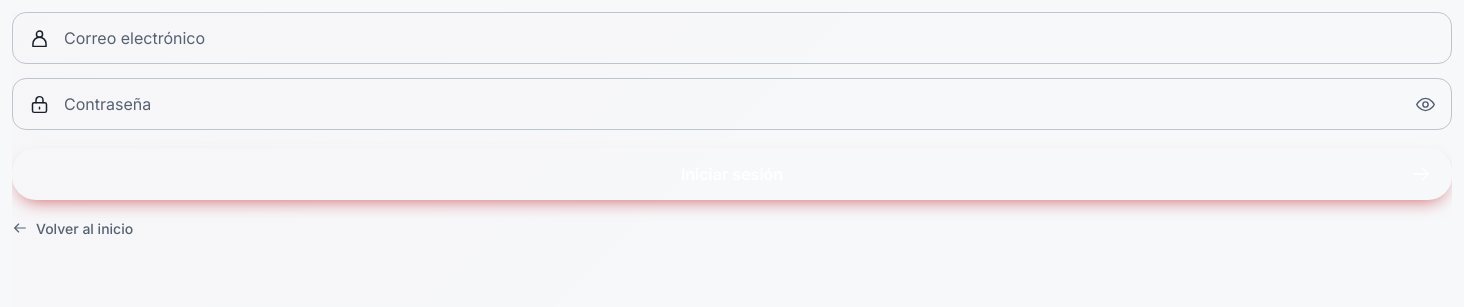
Test: anuncia las credenciales incorrectas con role=alert y enfoca el correo sin borrarlo
Type "ana@example.com" into the field labelled "Correo electrónico" at (750, 38), box [50, 13, 1451, 63]
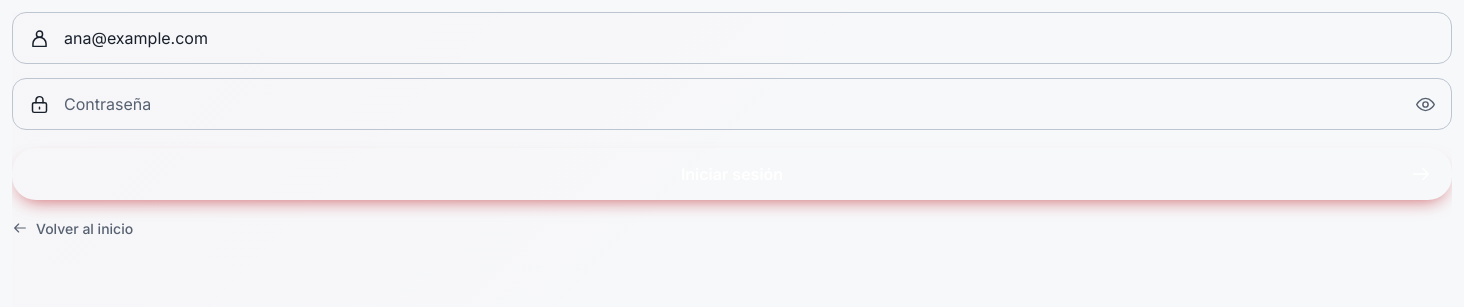
Type "mala" into the password field labelled "Contraseña" at (726, 104), box [50, 79, 1403, 129]
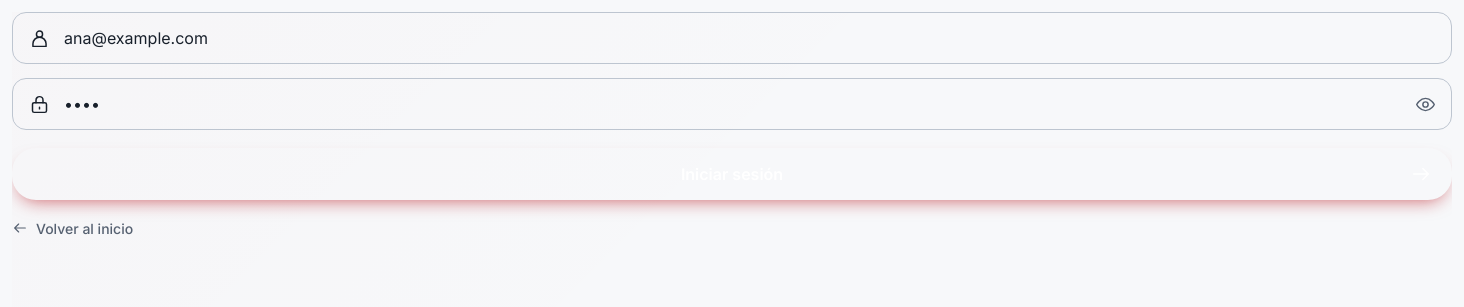
Click the button "Iniciar sesión" at (732, 174), box [12, 148, 1452, 200]
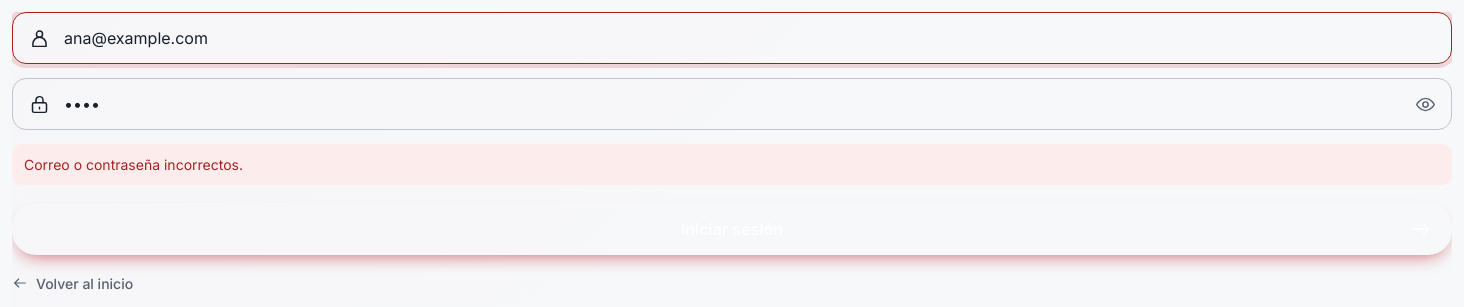
Result: the message reads "Correo o contraseña incorrectos." at [24, 156, 243, 173]
